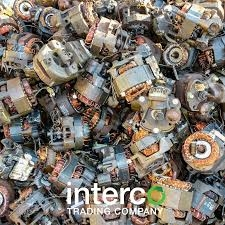metal: (29, 33, 95, 86), (144, 166, 196, 225), (101, 53, 163, 102), (39, 148, 99, 194), (38, 111, 100, 155), (1, 71, 46, 120), (177, 129, 221, 173), (1, 108, 54, 144), (153, 36, 202, 72), (80, 105, 126, 143), (60, 1, 102, 36)
